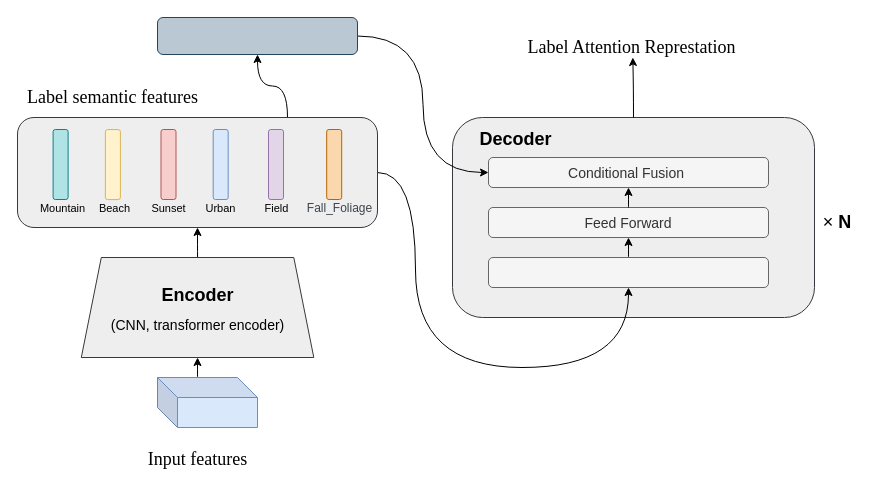
The diagram is 882 pixels wide and 495 high, and some of its shapes have lost their labels. The centre of each missing label's shape, as x and y in pixels:
"Condition Embedding" belongs at point (257, 35).
"Self-Attention" belongs at point (628, 272).
